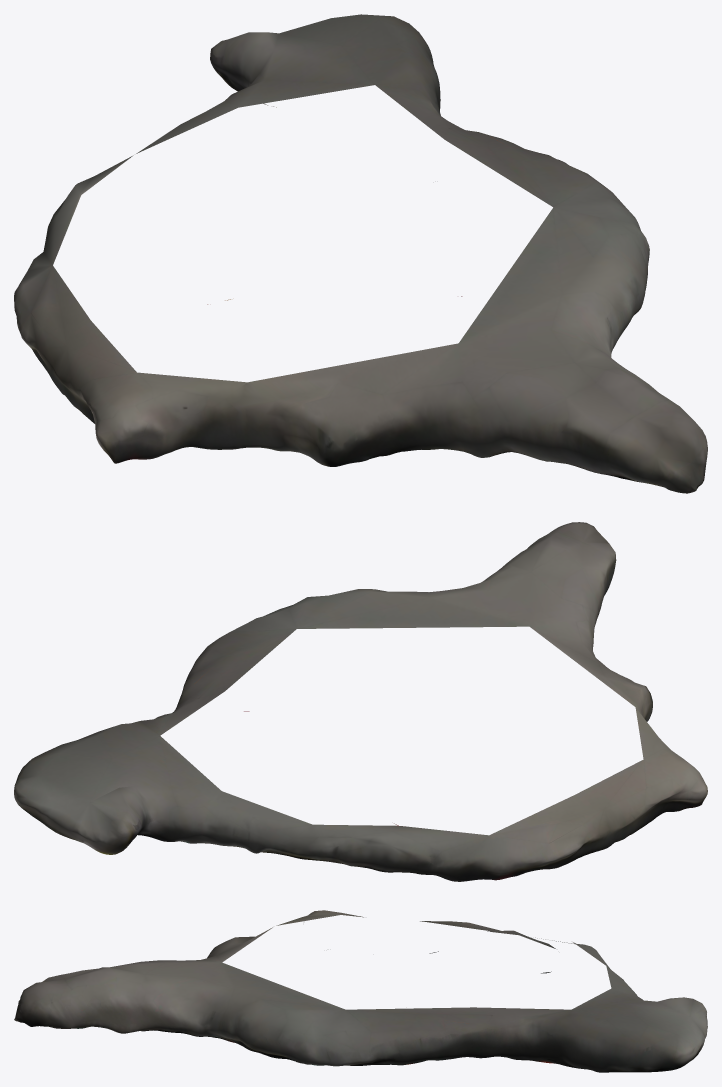
3 views of the same model, one above another, from view 1: azimuth 30°, elevation 25°; view 2: azimuth 150°, elevation 25°; view 3: azimuth 270°, elevation 25° (orthographic). The views are drawn at different scales.
Size of the model in its own units: 0.5178 by 0.1154 by 0.8257.
1 material, 1 textured.
